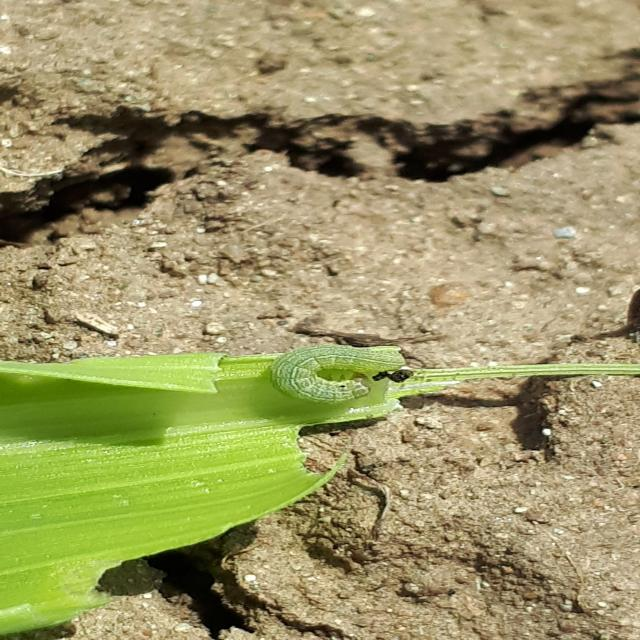armyworm: (275, 340, 411, 406)
